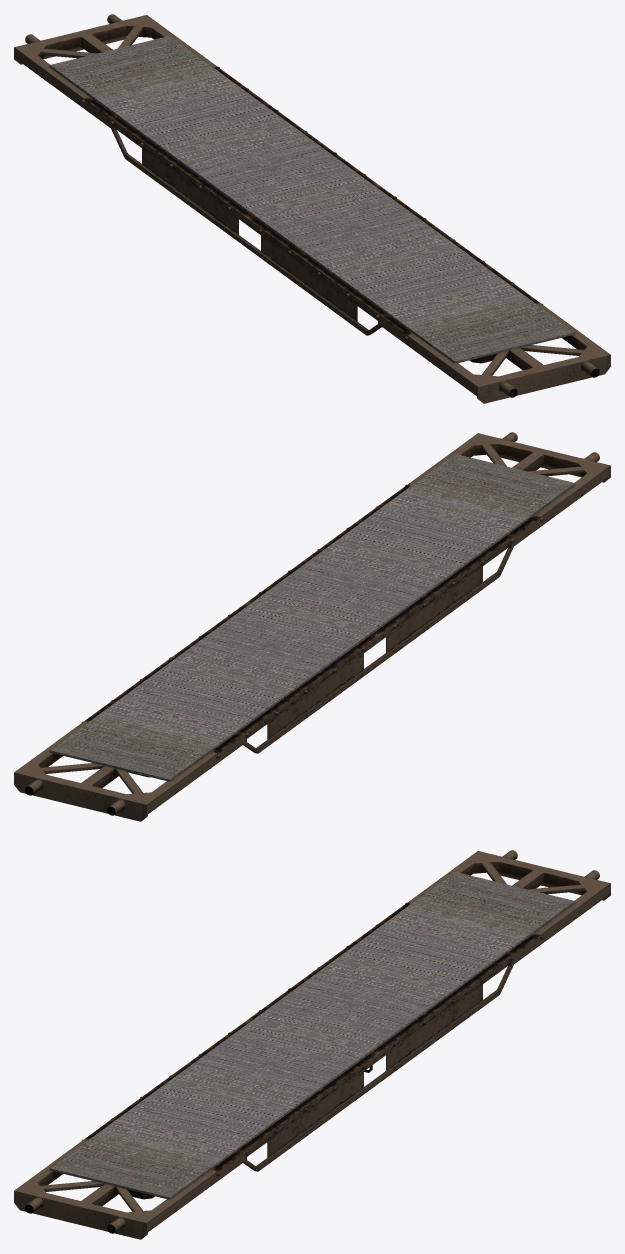
The model's file is car_flatcar_lod.fbx.
3 views of the same model, one above another, from view 1: azimuth 30°, elevation 25°; view 2: azimuth 150°, elevation 25°; view 3: azimuth 330°, elevation 25° (orthographic).
Parts seen in each view (by area): view 1: flatcar; view 2: flatcar; view 3: flatcar.
Boxes of the visible parts, left/top/right/bottom form: flatcar: left=14, top=14, right=610, bottom=403; flatcar: left=14, top=432, right=610, bottom=821; flatcar: left=14, top=850, right=610, bottom=1239.
Size of what is drawn, in the model's own units: 2.9 by 0.7398 by 17.66.
